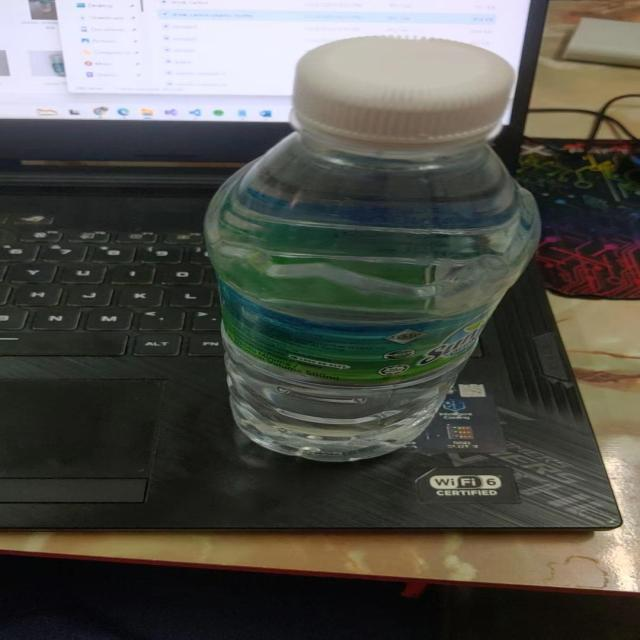plastic bottle: (202, 140, 540, 463)
plastic bottle cap: (291, 34, 516, 148)
